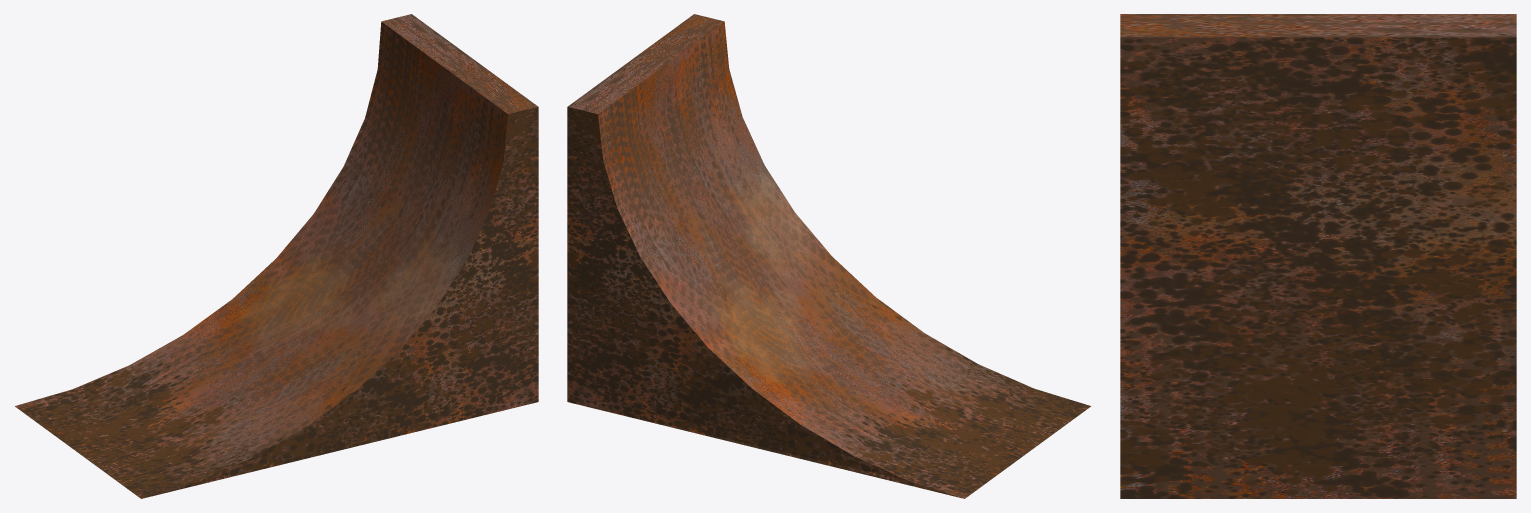
The model's file is Flip Ramp 1.fbx.
The picture shows the model from 3 angles, left to right: view 1: azimuth 30°, elevation 25°; view 2: azimuth 150°, elevation 25°; view 3: azimuth 270°, elevation 25°; orthographic projection. The views are drawn at different scales.
Parts seen in each view (by area): view 1: RampWide__14_; view 2: RampWide__14_; view 3: RampWide__14_.
Part boxes in pixels (x1=…): RampWide__14_: x1=15, y1=14, x2=538, y2=498; RampWide__14_: x1=567, y1=14, x2=1090, y2=498; RampWide__14_: x1=1120, y1=14, x2=1516, y2=498.
Bounding box in the file's own units: 418 × 297 × 231.
